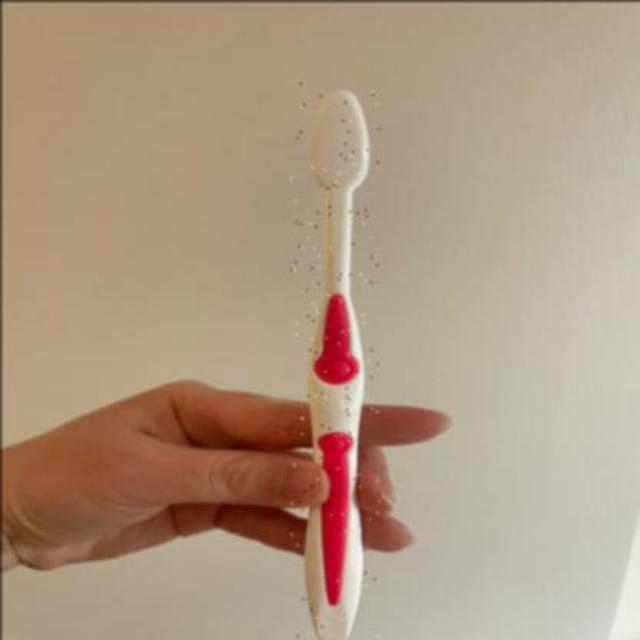toothbrush: (290, 80, 378, 640)
